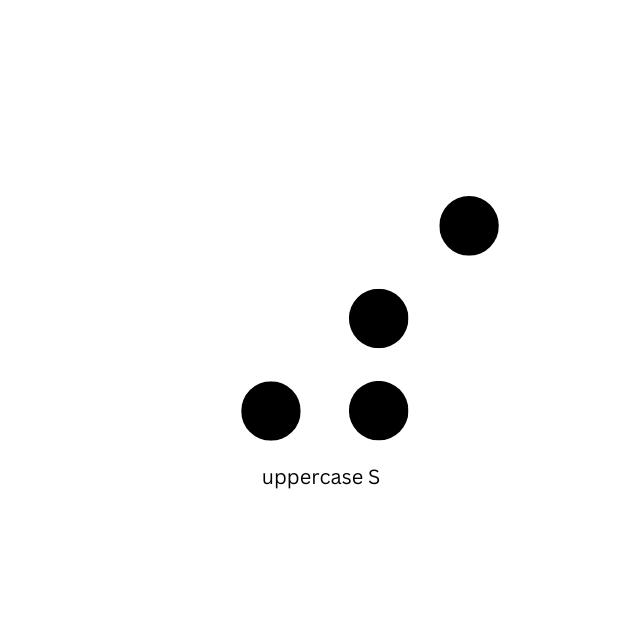capital_sign: (150, 196, 302, 444)
letter_S: (348, 195, 500, 442)
